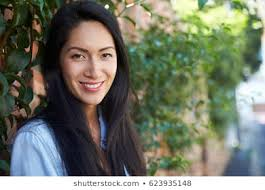asian_female: (33, 6, 134, 105)
